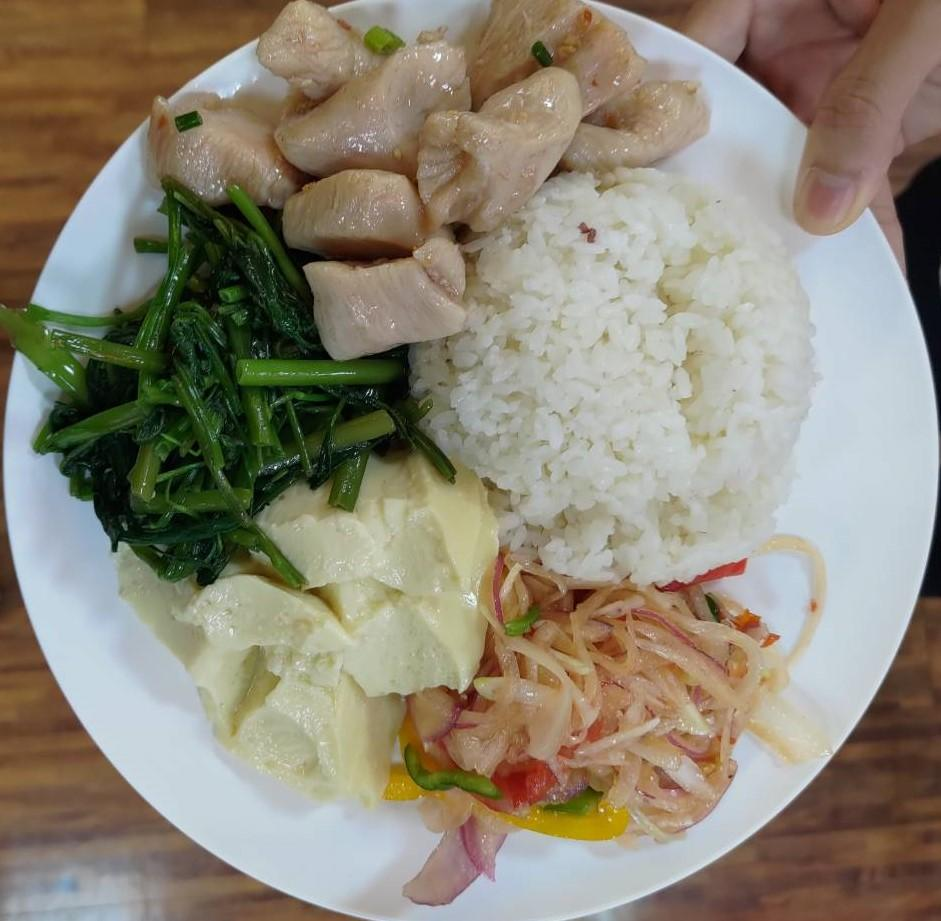big fried chicken leg: (10, 2, 941, 921)
big herbal chicken leg: (438, 170, 819, 582)
braised fish fillet: (387, 536, 836, 902), (28, 186, 428, 571), (123, 454, 508, 806)
braised pork: (140, 6, 711, 355)
